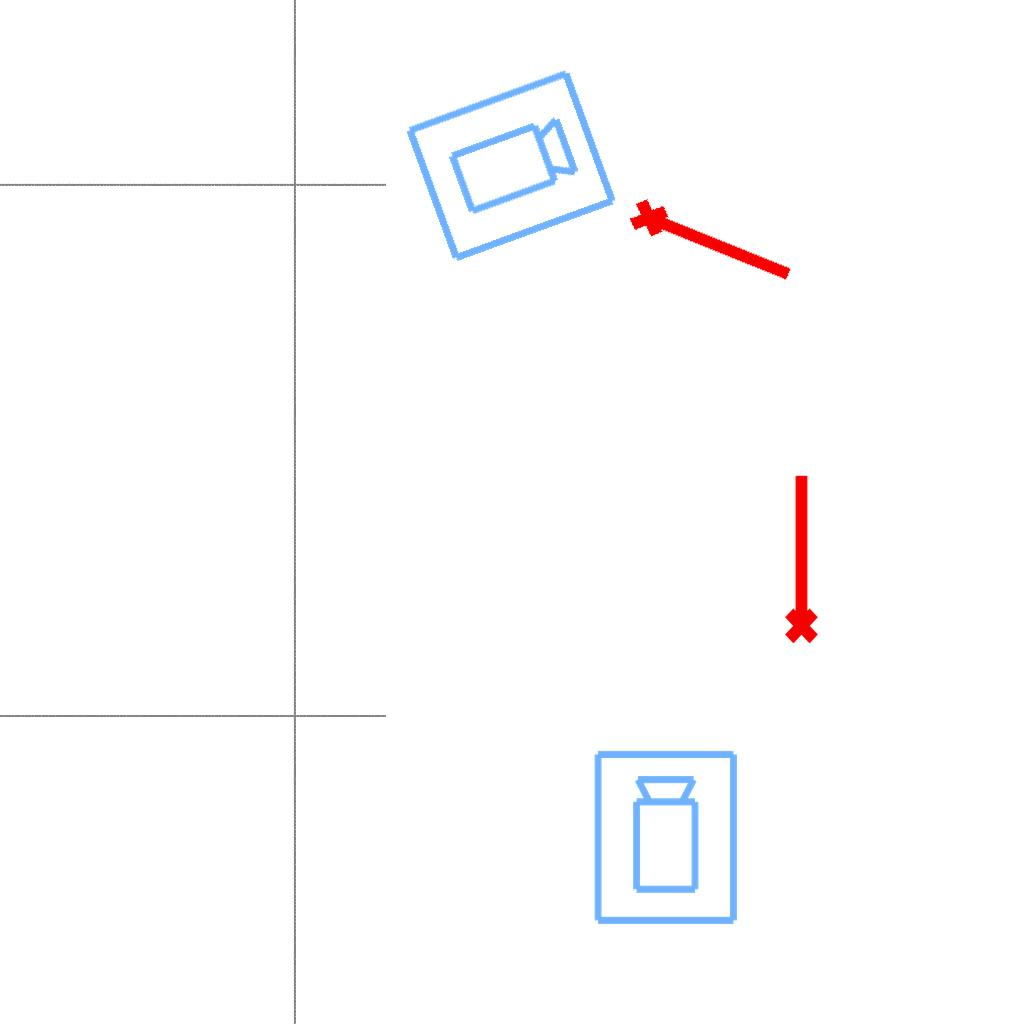ASR_Ansaugoeffnung: (622, 186, 804, 296), (776, 470, 822, 646)
KFO_Kamera_mit_Festobjektiv: (399, 63, 623, 271), (590, 747, 744, 929)
